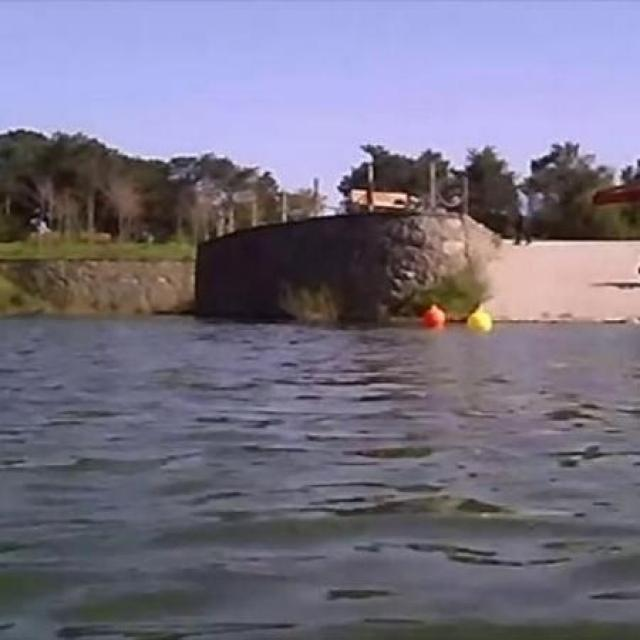buoy: (421, 305, 445, 329), (468, 309, 492, 332)
